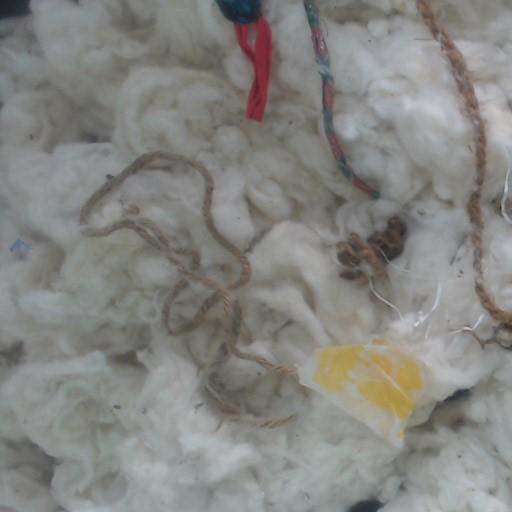cloth: (297, 284, 487, 446), (304, 0, 378, 198), (215, 0, 271, 120)
cotton: (0, 0, 511, 511), (434, 0, 511, 308), (337, 216, 406, 279)
jute: (79, 151, 295, 426), (416, 0, 511, 332)
